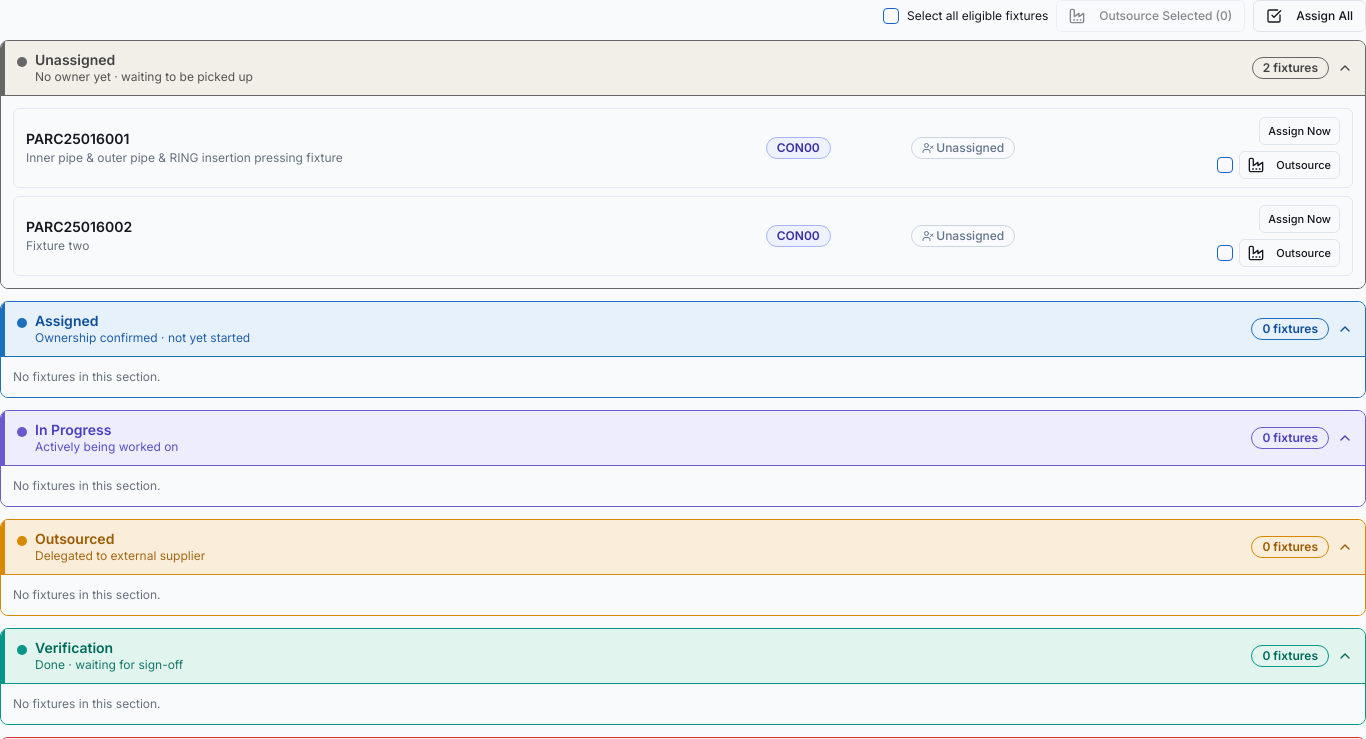
Scenario: ProjectFixtureOperations assignment expansion › shows partial failures and keeps failed eligible fixtures selected for retry
This screenshot has width=1366, height=739.
Step 1. Click the checkbox named "Select all eligible fixtures" → coordinates (891, 16), box [883,8,899,24]
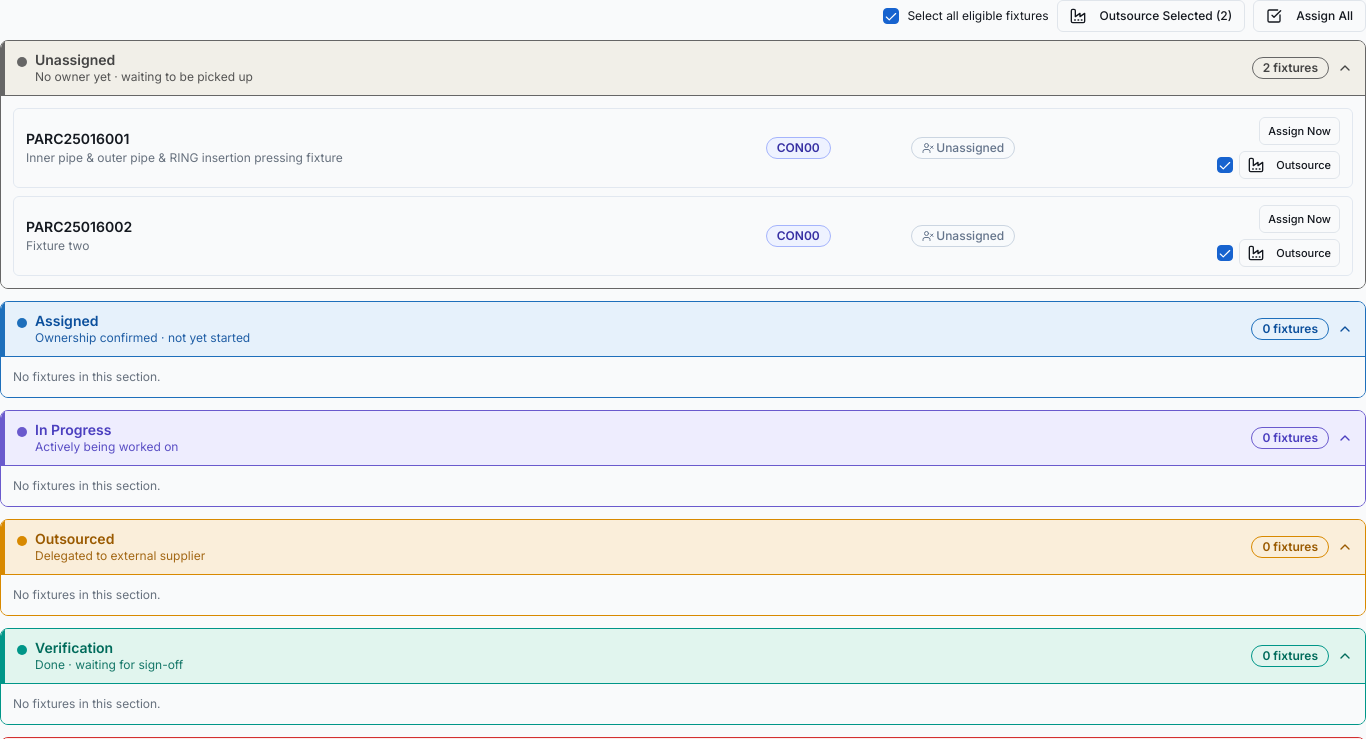
Step 2. Click the button "Outsource Selected (2)" → coordinates (1151, 16), box [1057,0,1245,32]
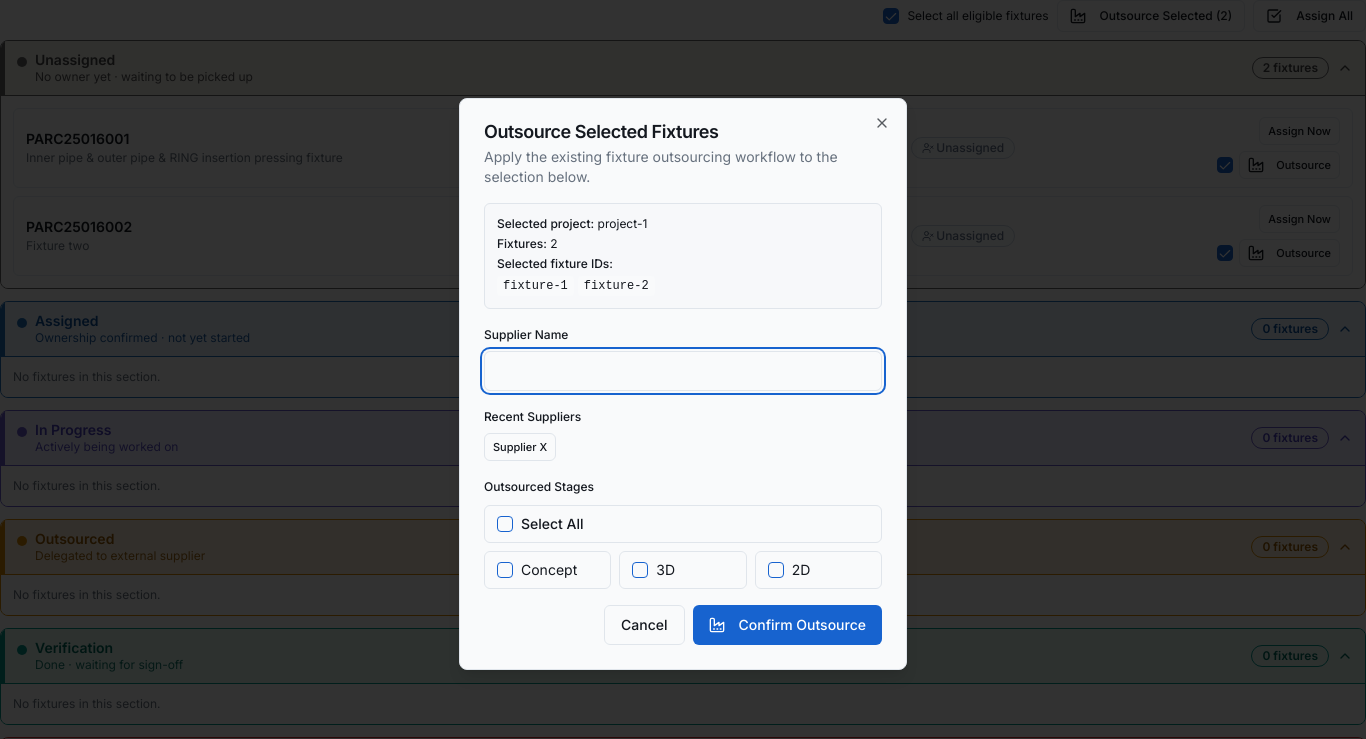
Step 3. Type "Supplier X" into the field labelled "Supplier Name" → coordinates (683, 371), box [484,351,882,391]
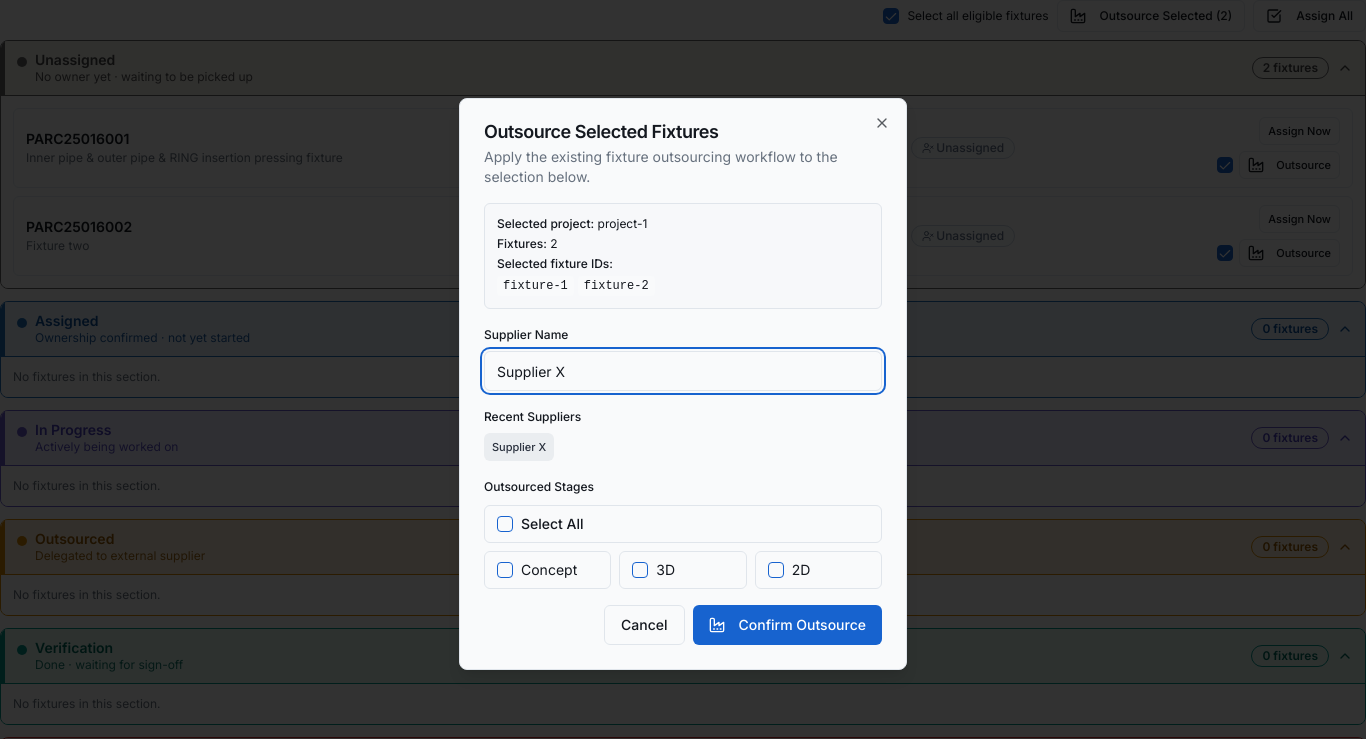
Step 4. Click the checkbox named "Concept" → coordinates (505, 570), box [497,562,513,578]
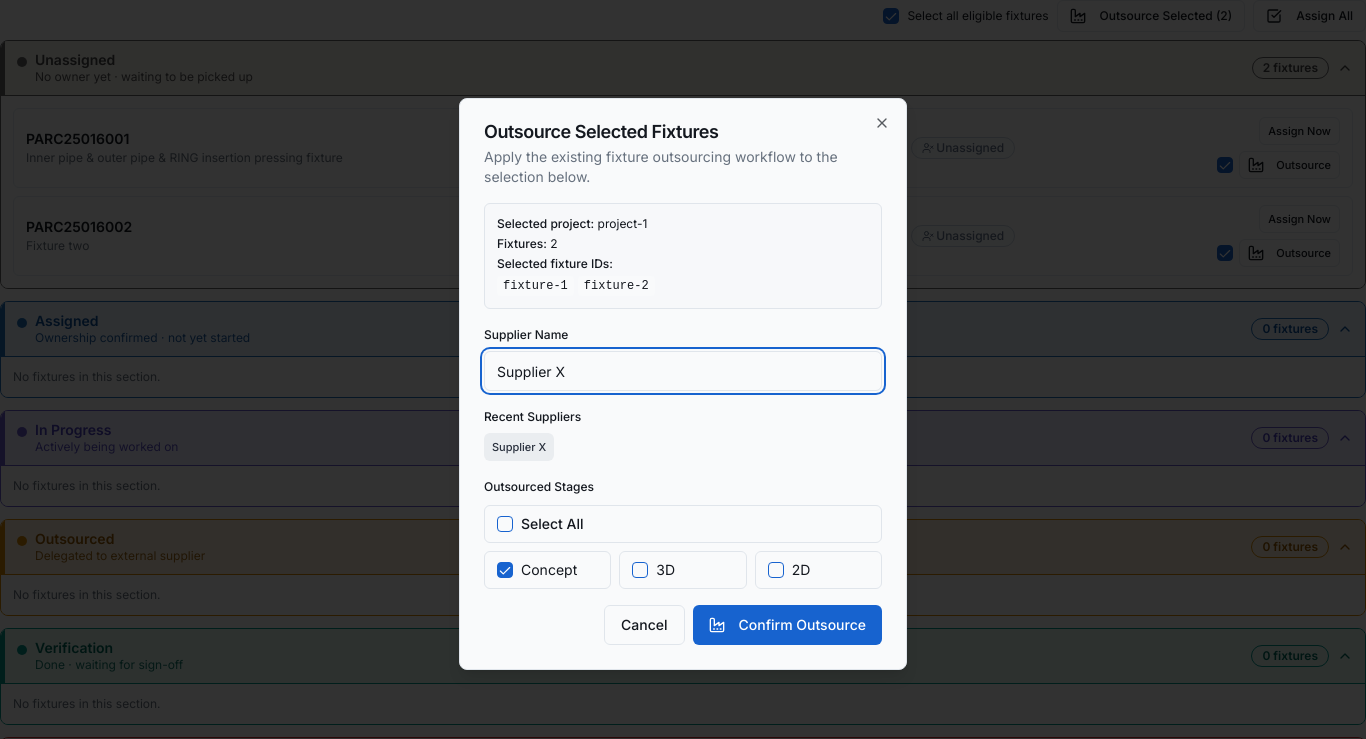
Step 5. Click the button "Confirm Outsource" → coordinates (787, 625), box [692,605,882,645]
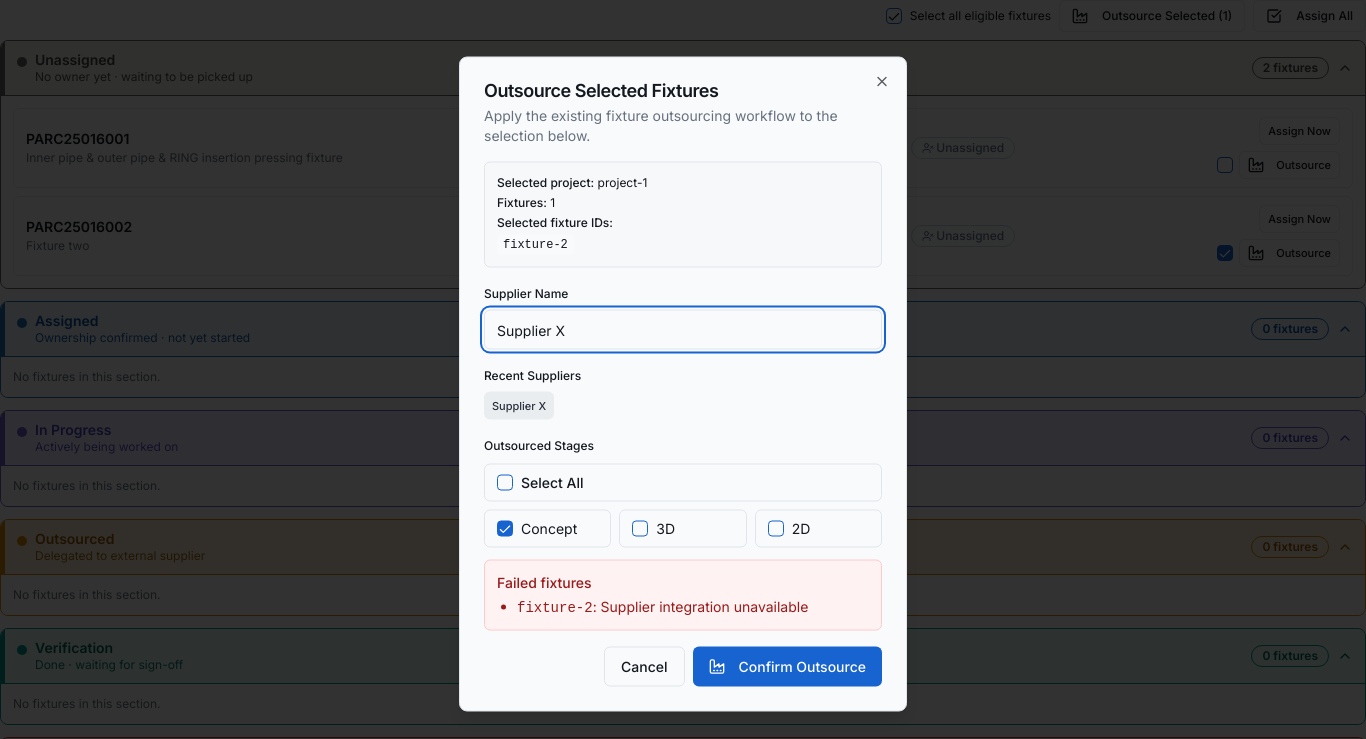
Check: the message shows "fixture-2", box [517,600,593,616]
Check: the message shows "Supplier integration unavailable", box [601,598,808,614]
Check: the dialog shows "Fixtures: 1", box [459,56,907,712]
Step 6. Click the button "Cancel" → coordinates (644, 666), box [604,646,685,686]
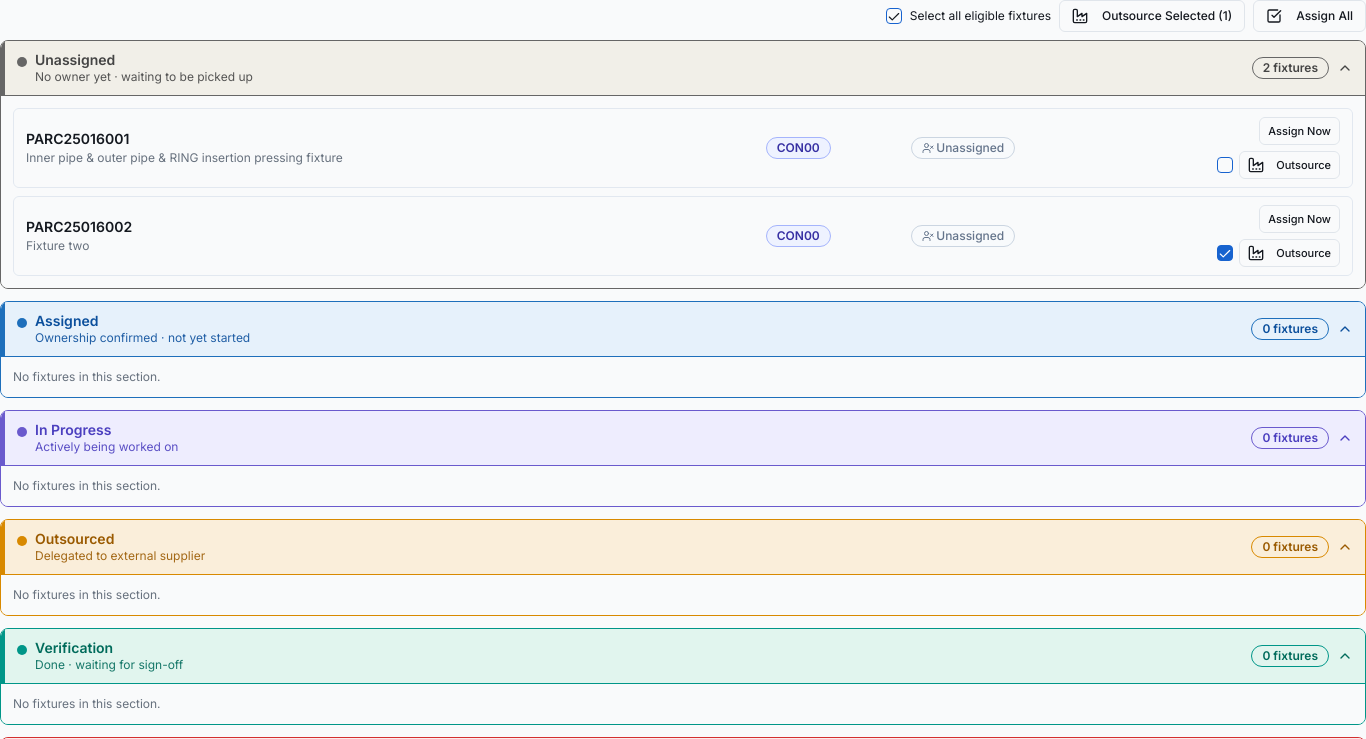
Check: the button "Outsource Selected (1)" is enabled, box [1059,0,1245,32]
Check: the dialog is gone
